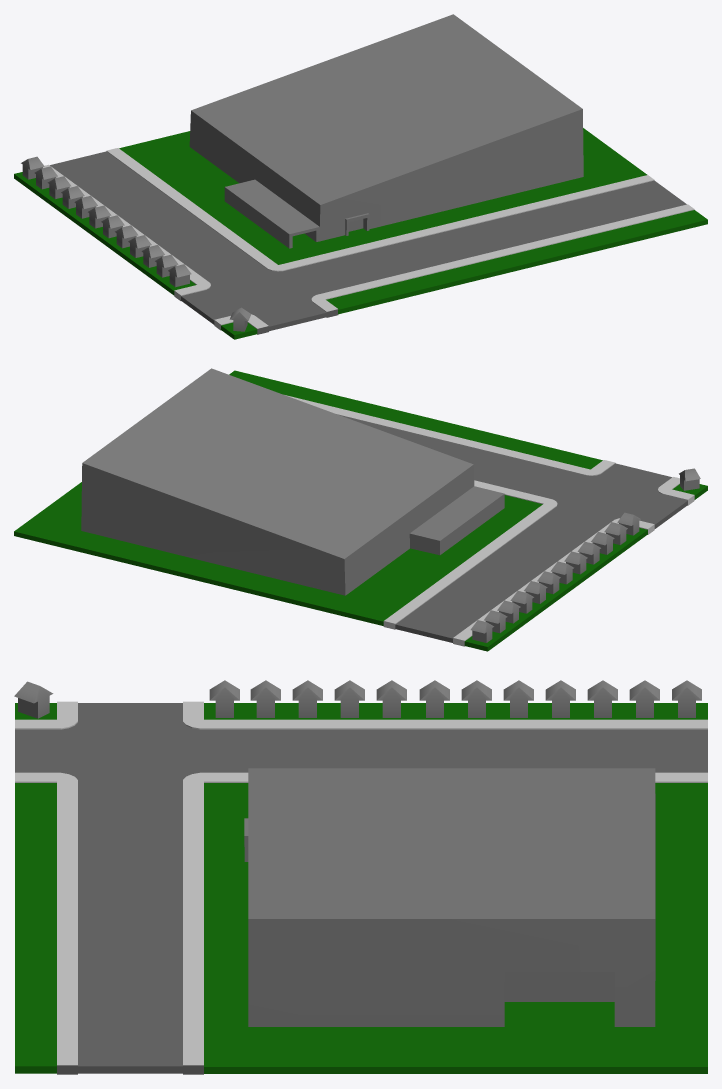
The model's file is house 1.fbx.
3 views of the same model, one above another, from view 1: azimuth 30°, elevation 25°; view 2: azimuth 150°, elevation 25°; view 3: azimuth 270°, elevation 25° (orthographic). The views are drawn at different scales.
Visible parts, largest first — view 1: supermarket_2, LevelMesh; view 2: supermarket_2, LevelMesh; view 3: LevelMesh, supermarket_2, house_13, house_2, house_4, house_3, house_7, house_5, house_11, house_8, house_6, house_9 (+3 smaller).
Part boxes in pixels (<box>): supermarket_2: <box>189,14,583,248</box>; LevelMesh: <box>14,128,707,339</box>; supermarket_2: <box>81,368,504,595</box>; LevelMesh: <box>14,370,707,651</box>; LevelMesh: <box>15,701,707,1074</box>; supermarket_2: <box>244,768,655,1026</box>; house_13: <box>14,681,53,718</box>; house_2: <box>209,680,239,717</box>; house_4: <box>250,680,280,717</box>; house_3: <box>292,680,322,717</box>; house_7: <box>334,680,364,717</box>; house_5: <box>376,680,406,717</box>; house_11: <box>461,680,491,717</box>; house_8: <box>503,680,533,717</box>; house_6: <box>419,680,449,717</box>; house_9: <box>545,680,575,717</box>.
Size of what is drawn, in the model's own units: 8200 by 6608 by 1225.
